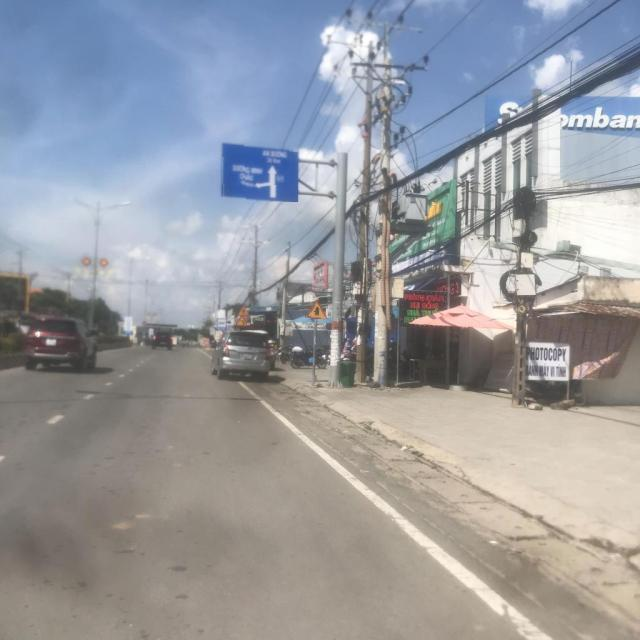207-giao-nhau-voi-duong-khong-uu-tien: (306, 300, 328, 320)
